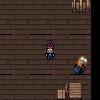Hide: (70, 0, 91, 14)
Obstacle: (55, 80, 83, 100)
Victim: (44, 39, 57, 61)
Win: (71, 54, 90, 75)
